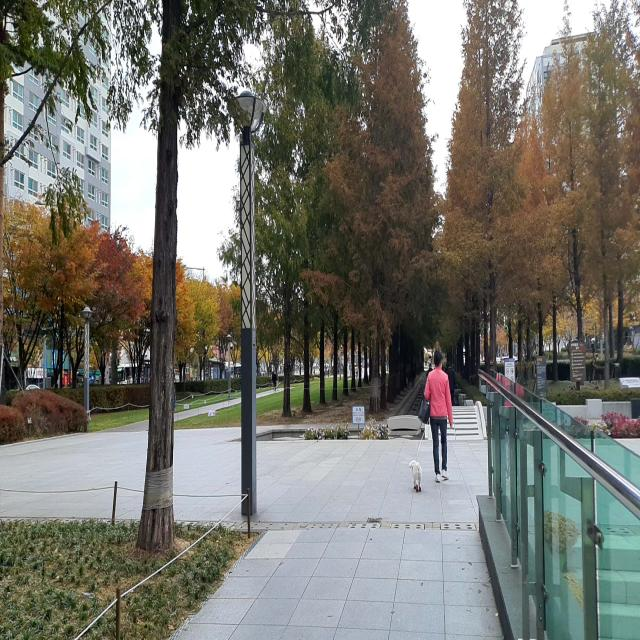Leashed_Dog: (409, 410, 440, 494)
